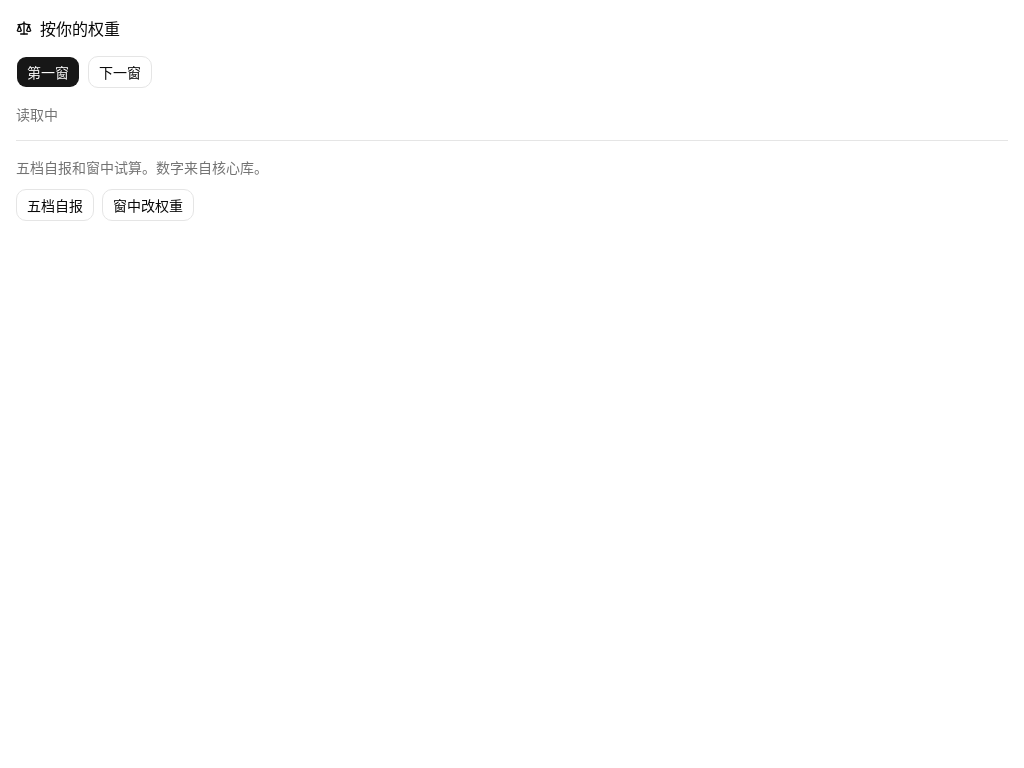
it: the wizard shows shell numbers and a mid-window save stays a trial
Click the button "五档自报". click: (55, 205)
box: [16, 189, 94, 221]
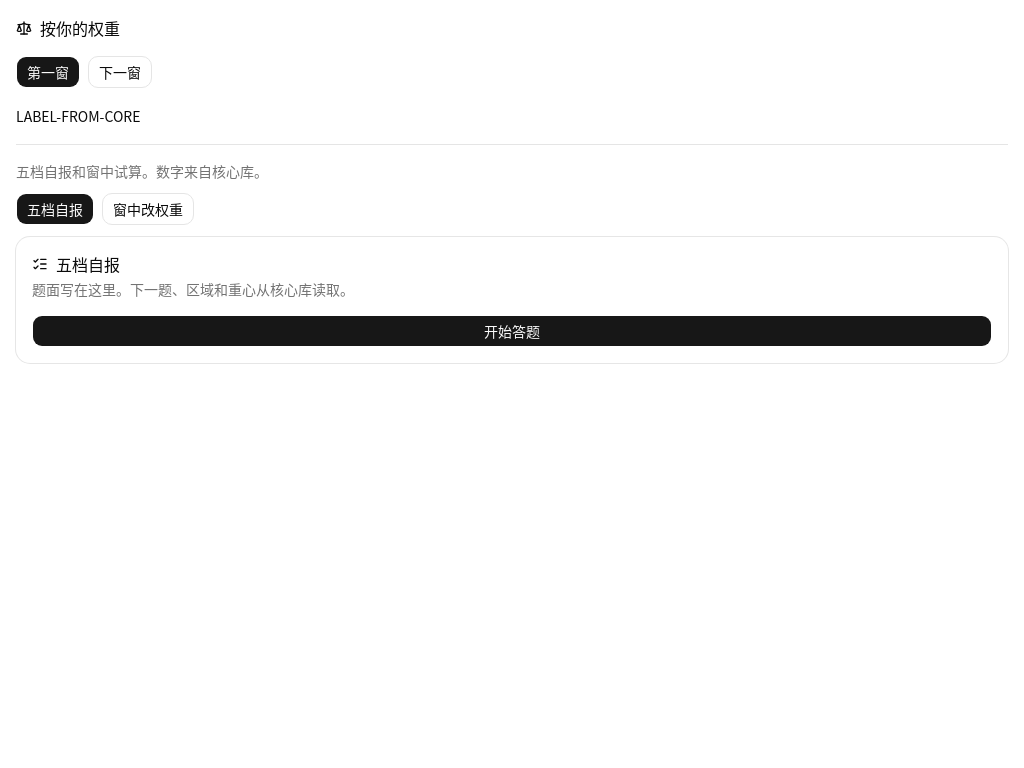
Click the button "开始答题". click: (512, 331)
box: [32, 315, 992, 347]
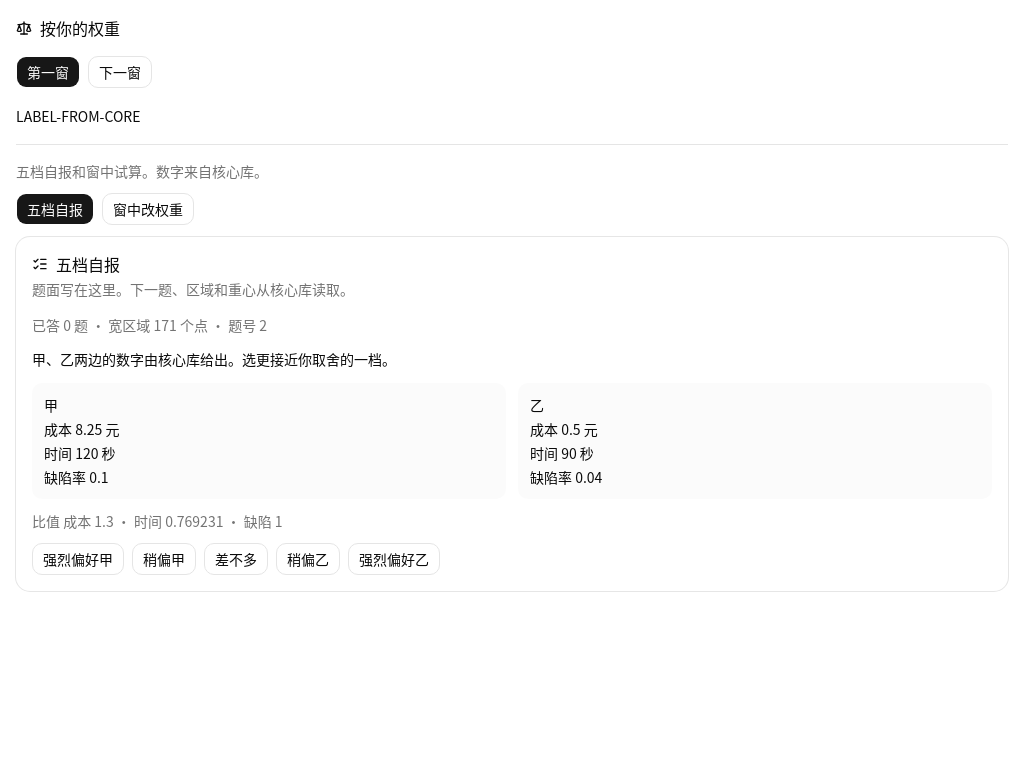
Check: the text "成本 8.25 元" is shown, box [44, 419, 120, 439]
Check: the text "时间 90 秒" is shown, box [530, 443, 594, 463]
Check: the text "缺陷率 0.04" is shown, box [530, 467, 602, 487]
Click the button "稍偏甲". click: (164, 559)
box: [132, 543, 196, 575]
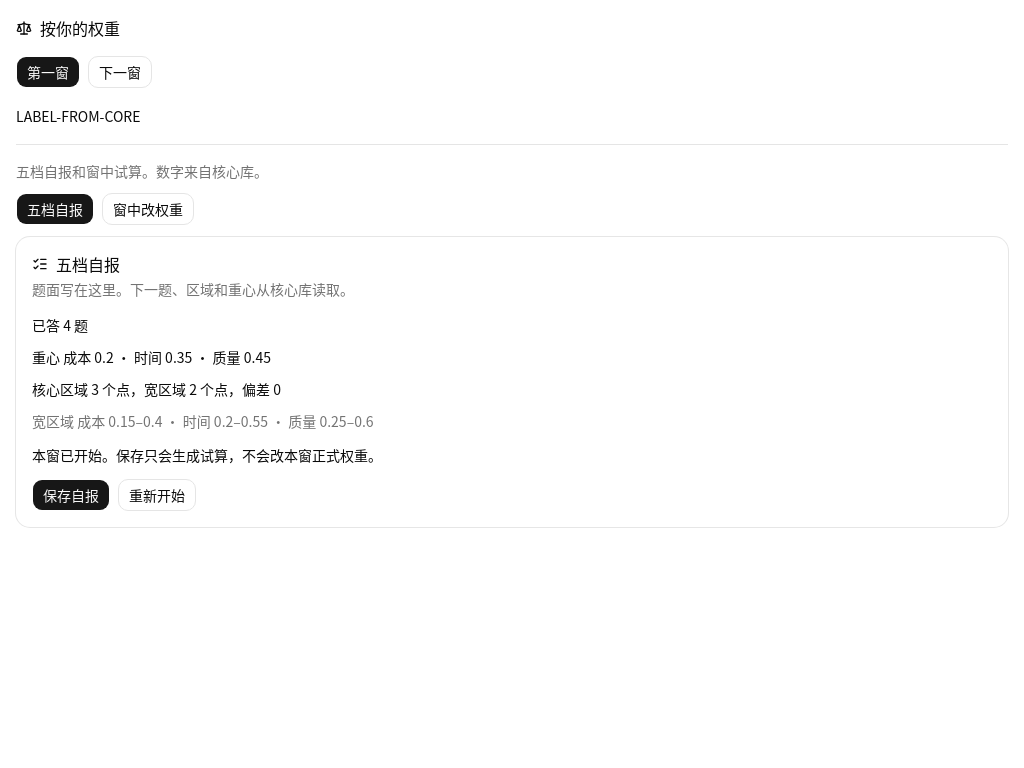
Check: the text "重心 成本 0.2 · 时间 0.35 · 质量 0.45" is shown, box [32, 347, 271, 367]
Check: the text "核心区域 3 个点，宽区域 2 个点，偏差 0" is shown, box [32, 379, 281, 399]
Check: the text "本窗已开始。保存只会生成试算，不会改本窗正式权重。" is shown, box [32, 445, 382, 465]
Click the button "保存自报". click: (71, 495)
box: [32, 479, 110, 511]
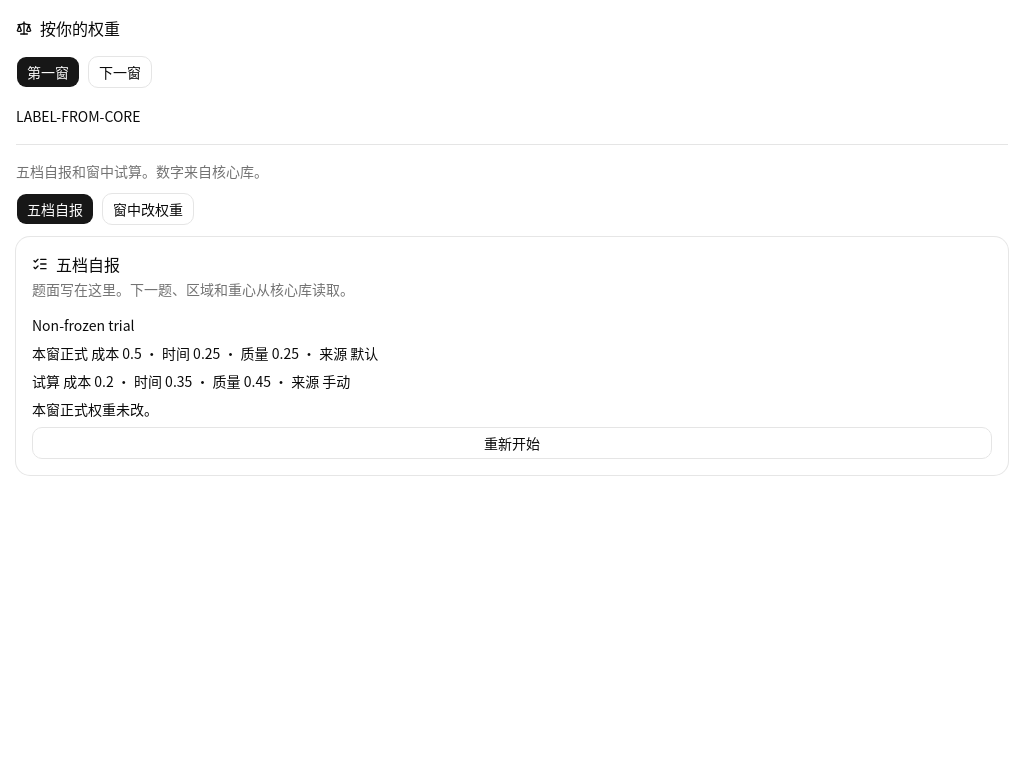
Check: the text "Non-frozen trial" is shown, box [32, 315, 135, 335]
Check: the text "本窗正式 成本 0.5 · 时间 0.25 · 质量 0.25 · 来源 默认" is shown, box [32, 343, 378, 363]
Check: the text "试算 成本 0.2 · 时间 0.35 · 质量 0.45 · 来源 手动" is shown, box [32, 371, 350, 391]
